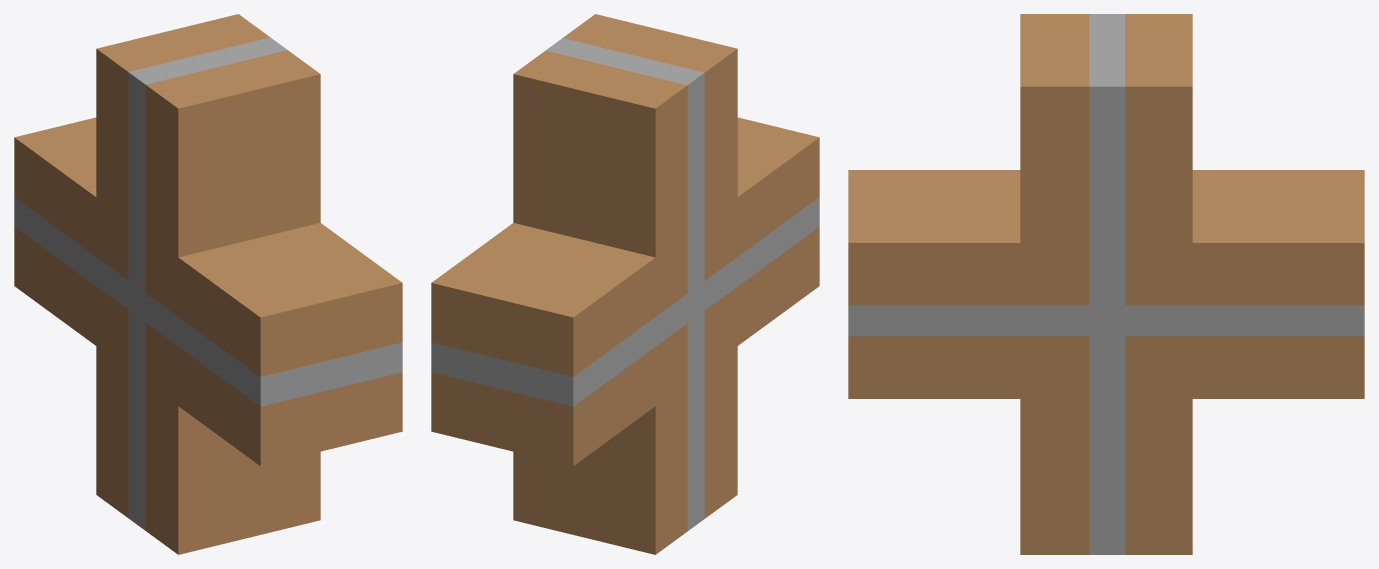
3 renders of one model, left to right at view 1: azimuth 30°, elevation 25°; view 2: azimuth 150°, elevation 25°; view 3: azimuth 270°, elevation 25°, orthographic. The views are drawn at different scales.
Parts seen in each view (by area): view 1: + Box; view 2: + Box; view 3: + Box.
Boxes of the visible parts, box(x1,y1,x2,y2) form: + Box: box(14, 14, 402, 554); + Box: box(431, 14, 819, 554); + Box: box(848, 14, 1364, 554).
Size of what is drawn, in the model's own units: 1 by 3 by 3.
